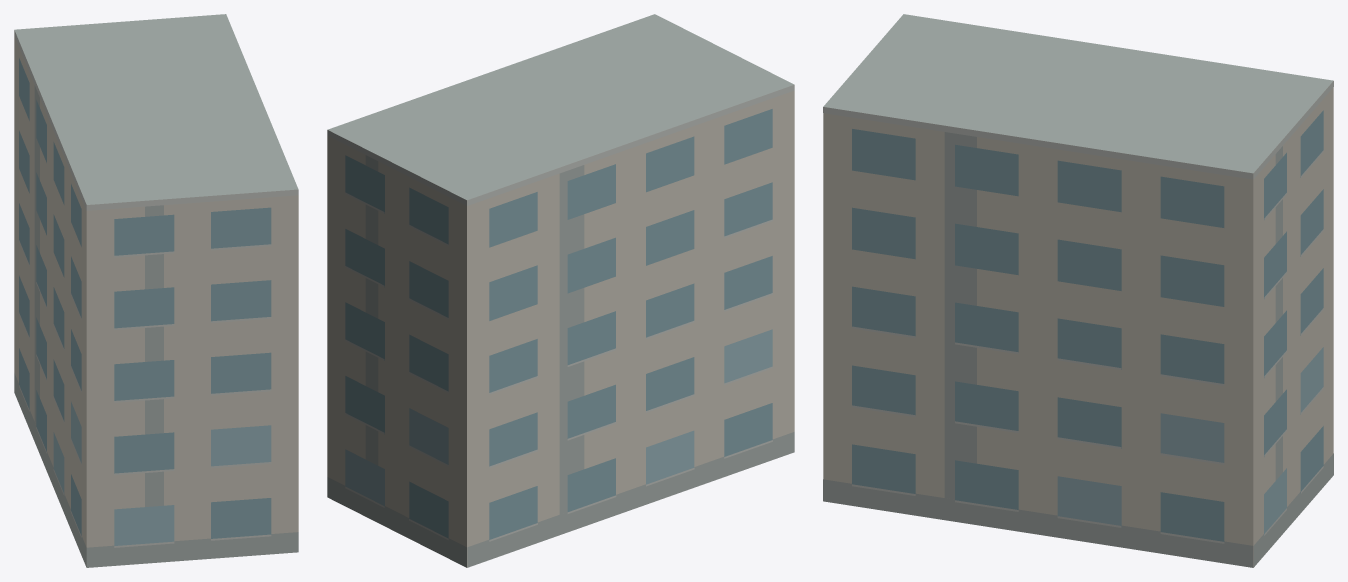
File: residential-887307f6-81b8-440d-923f-8514927570ce.glb
The picture shows the model from 3 angles, left to right: view 1: azimuth 30°, elevation 25°; view 2: azimuth 150°, elevation 25°; view 3: azimuth 270°, elevation 25°; orthographic projection. The views are drawn at different scales.
Parts seen in each view (by area): view 1: residential-887307f6-81b8-440d-923f-8514927570ce.tmp; view 2: residential-887307f6-81b8-440d-923f-8514927570ce.tmp; view 3: residential-887307f6-81b8-440d-923f-8514927570ce.tmp.
Part boxes in pixels (x1=…): residential-887307f6-81b8-440d-923f-8514927570ce.tmp: x1=14, y1=14, x2=298, y2=567; residential-887307f6-81b8-440d-923f-8514927570ce.tmp: x1=327, y1=14, x2=794, y2=567; residential-887307f6-81b8-440d-923f-8514927570ce.tmp: x1=823, y1=14, x2=1333, y2=567.
Size of the model in its own units: 13.22 by 15.25 by 17.9.
